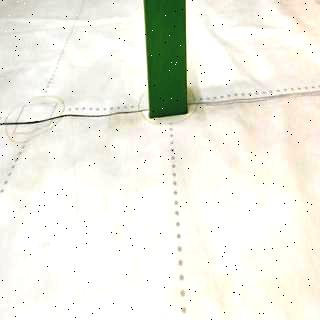greenbox: (143, 2, 191, 117)
